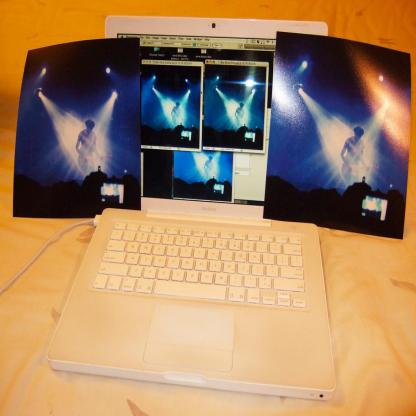board: (46, 15, 337, 403)
